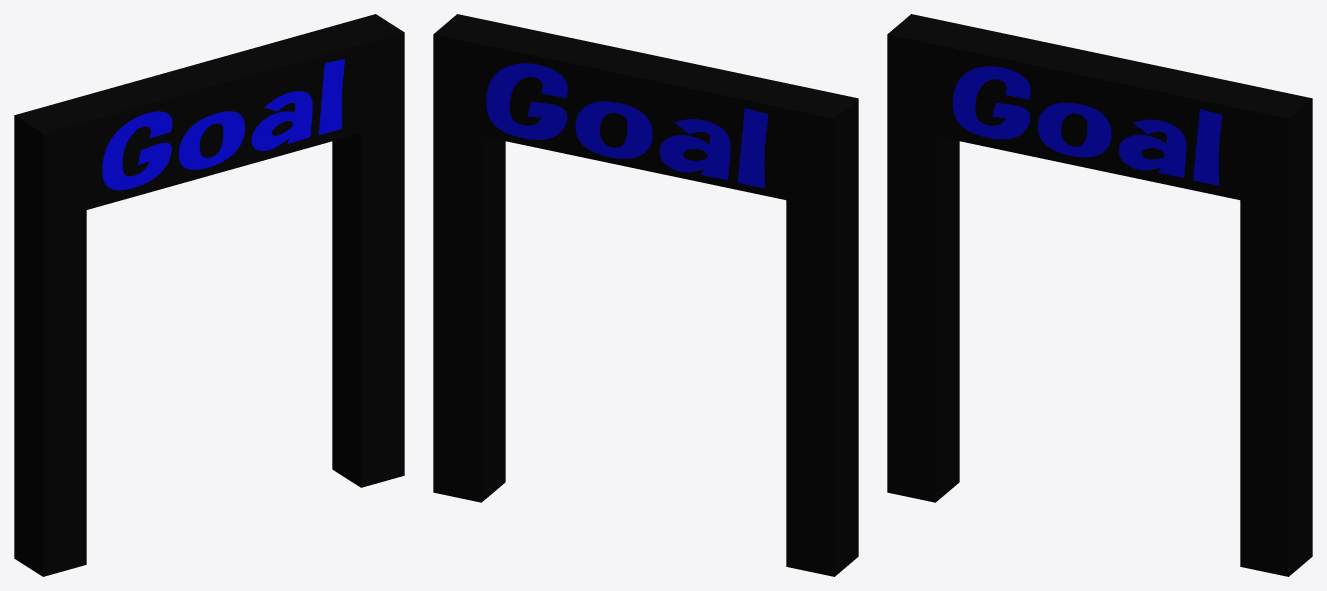
File: Goal.FBX
3 views of the same model, side by side, from view 1: azimuth 30°, elevation 25°; view 2: azimuth 150°, elevation 25°; view 3: azimuth 330°, elevation 25° (orthographic). The views are drawn at different scales.
Parts seen in each view (by area): view 1: Box018; view 2: Box018; view 3: Box018.
Part boxes in pixels (x1,y1,x2,y2): Box018: (14, 14, 404, 576); Box018: (433, 14, 858, 576); Box018: (887, 14, 1312, 576).
Bounding box in the file's own units: 267 × 300 × 48.39.
Materials: 1 (1 with a texture image).
